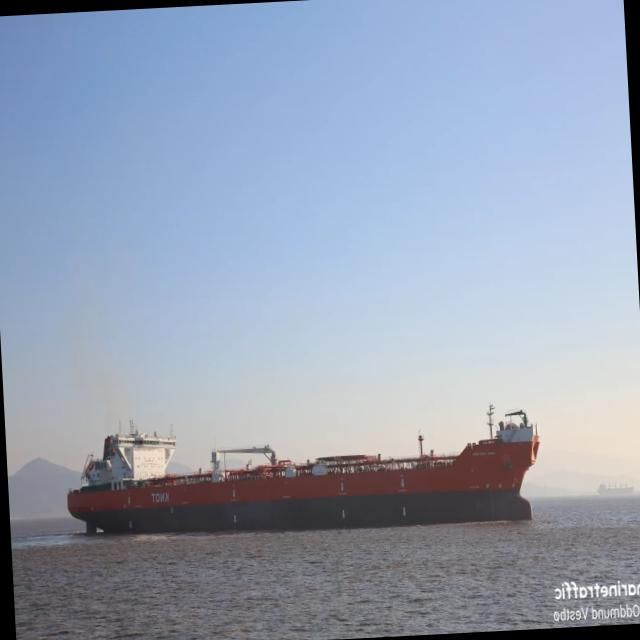Tanker: (68, 405, 540, 532)
